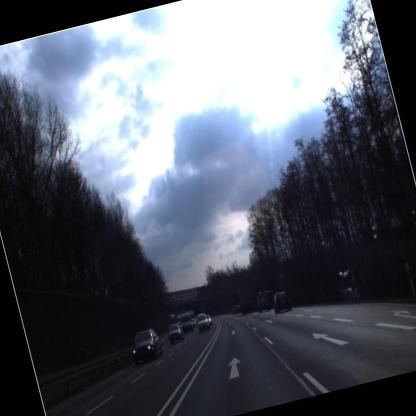danger: (382, 198, 406, 236)
